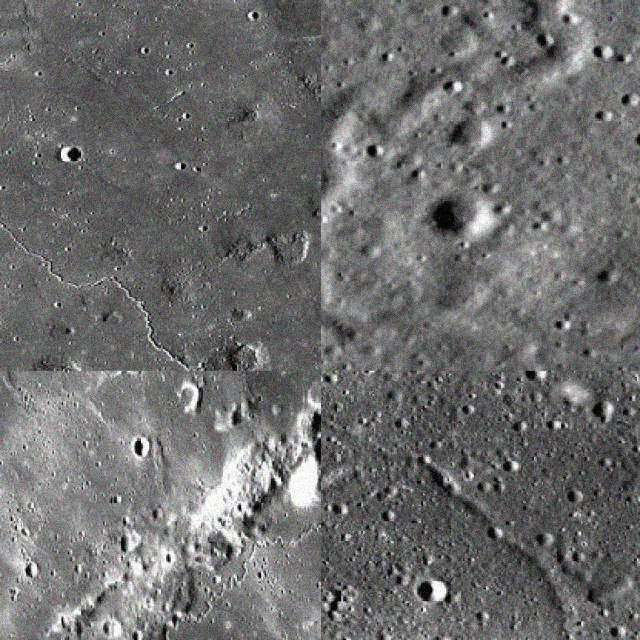crater: (0, 0, 318, 369), (320, 0, 597, 342), (0, 370, 318, 638), (320, 451, 638, 638)
